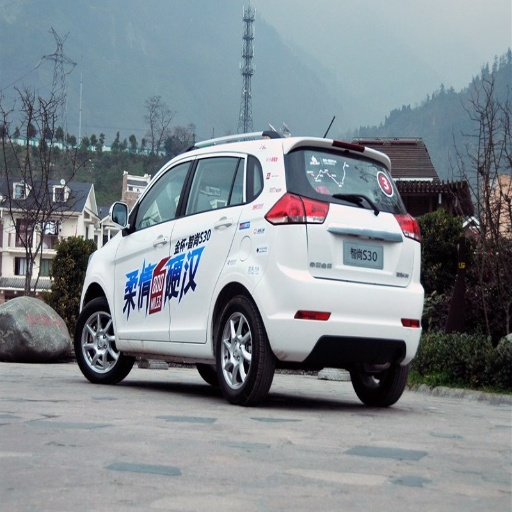back_bumper: (260, 270, 423, 362)
back_glass: (283, 146, 388, 203)
back_left_door: (171, 153, 244, 339)
trunk: (302, 200, 416, 286)
